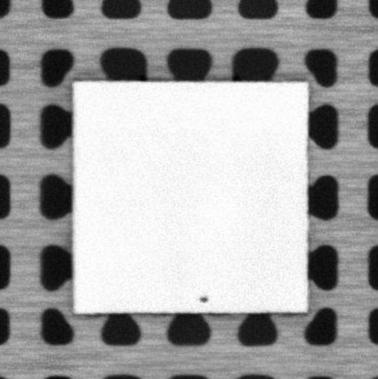DIE_INK: (197, 293, 212, 304)
